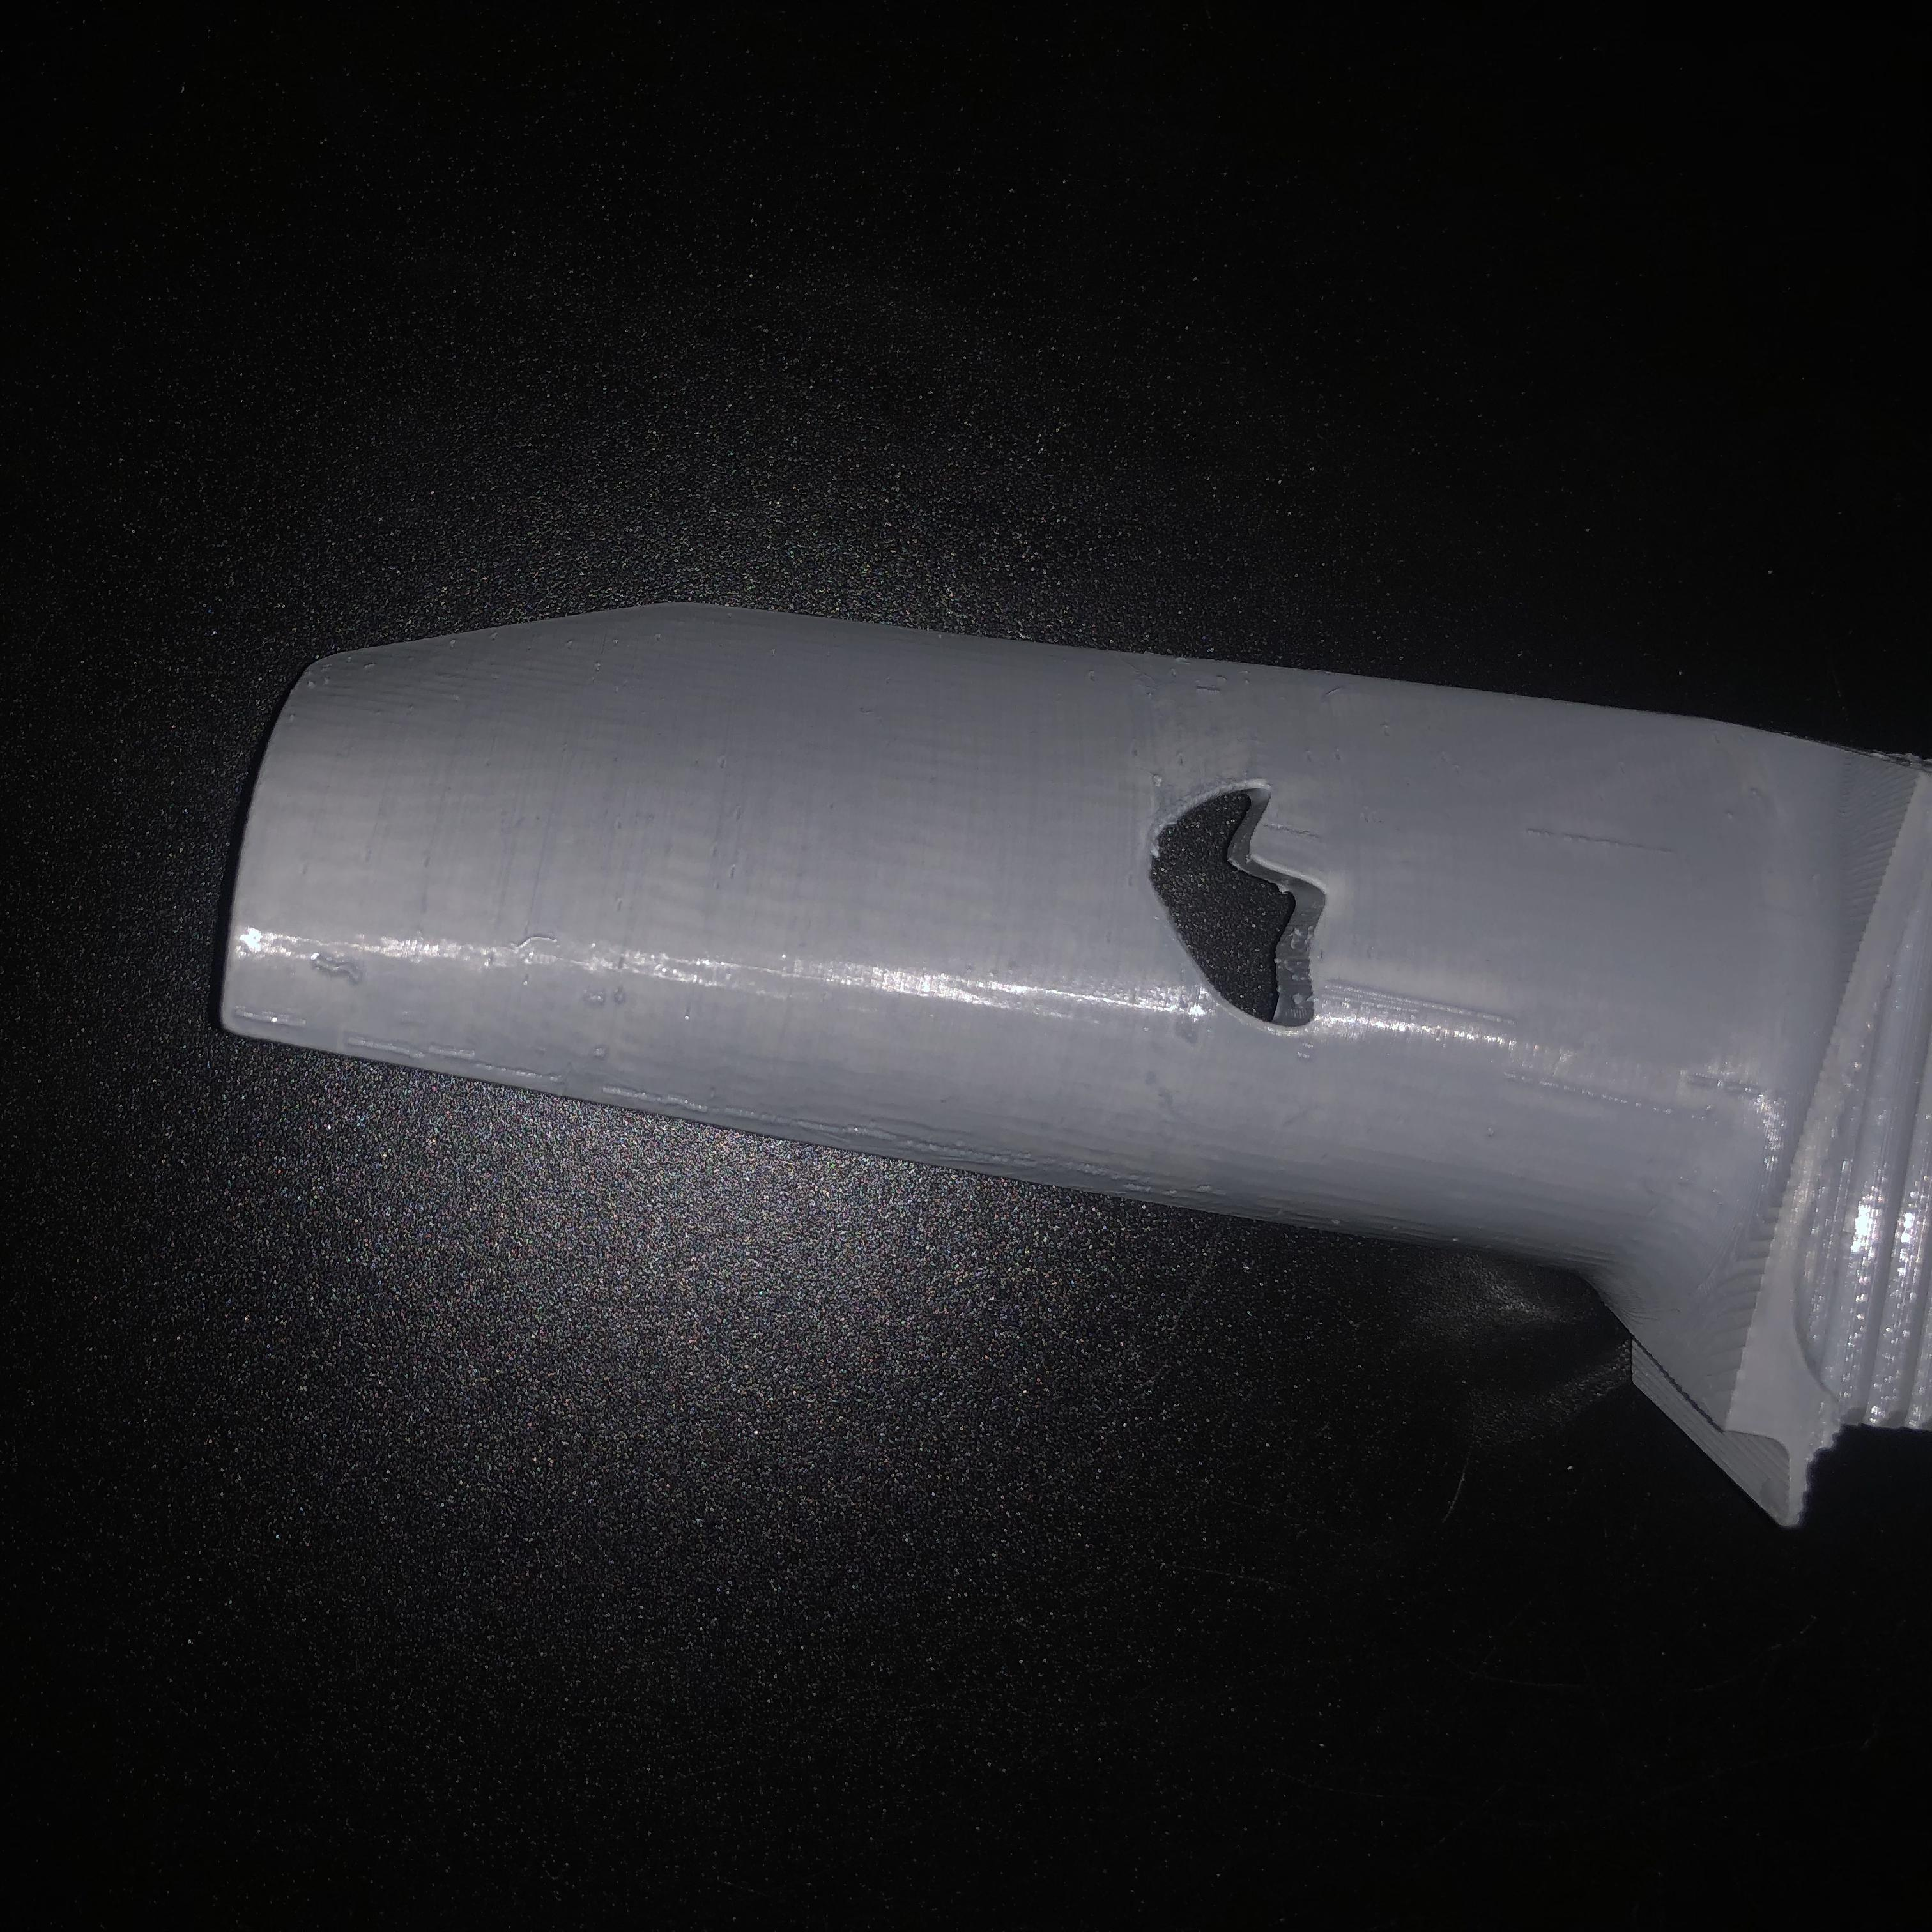breakdown: (1141, 791, 1336, 1030)
